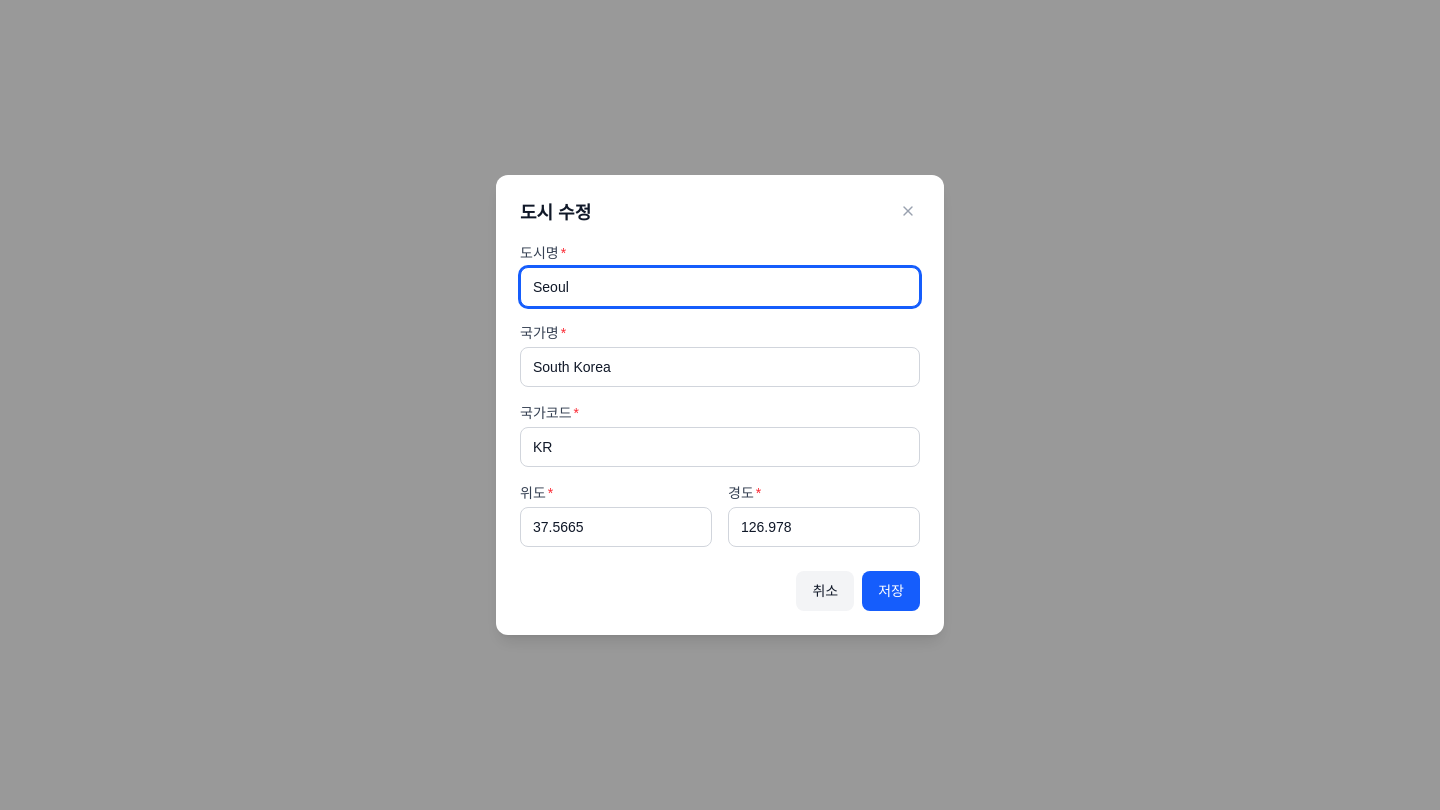
Scenario: CityFormModal - edit mode (F4) › 수정 결과가 다른 도시와 중복되면 폼 상단 배너로 거부 메시지를 표시한다 (F4 엣지케이스)
Replace the text in the field labelled "도시명*" with "Tokyo" at [720, 287], box [520,267,920,307]
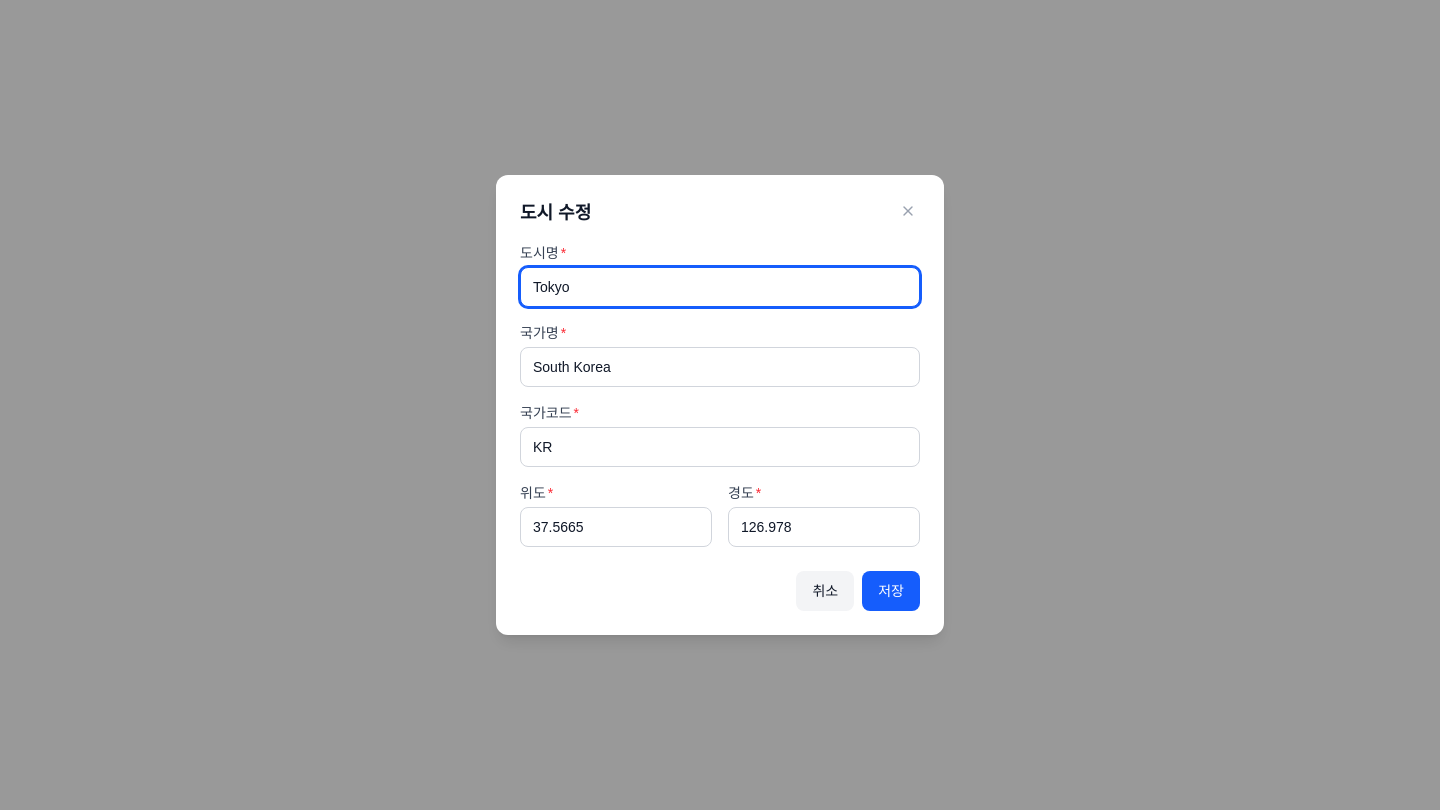
Replace the text in the field labelled "국가명*" with "Japan" at [720, 367], box [520,347,920,387]
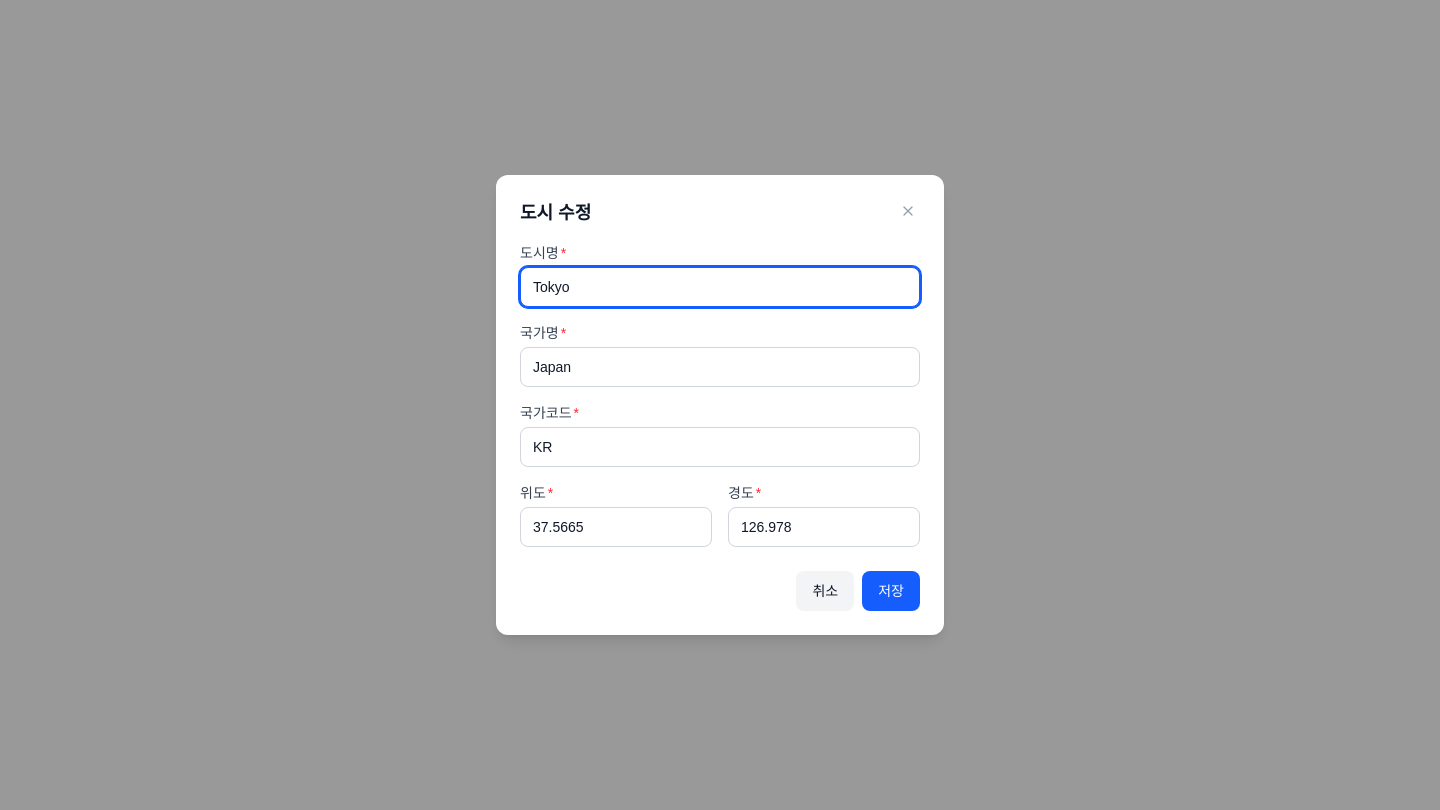
Replace the text in the field labelled "국가코드*" with "JP" at [720, 447], box [520,427,920,467]
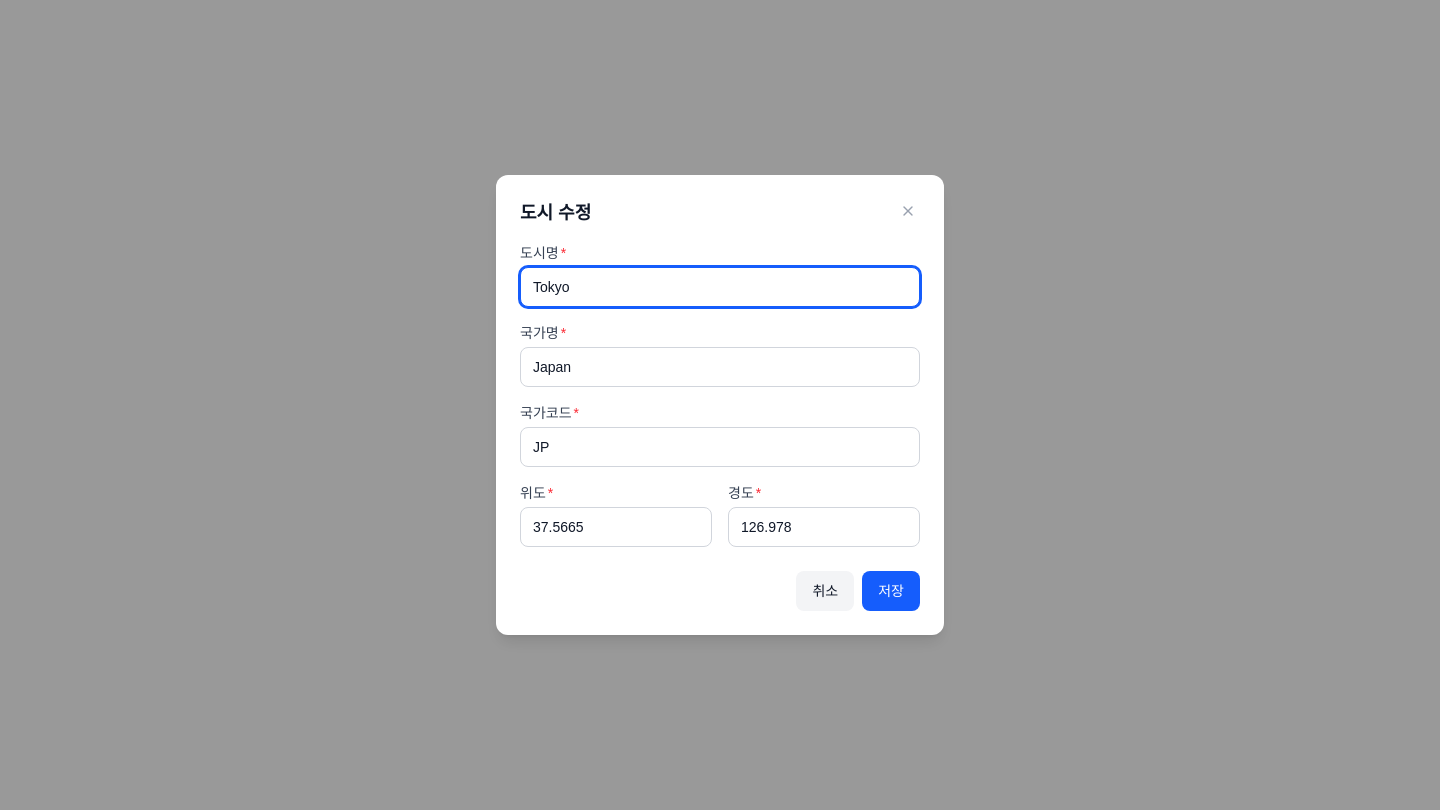
Click the button "저장" at [891, 591], box [862,571,920,611]
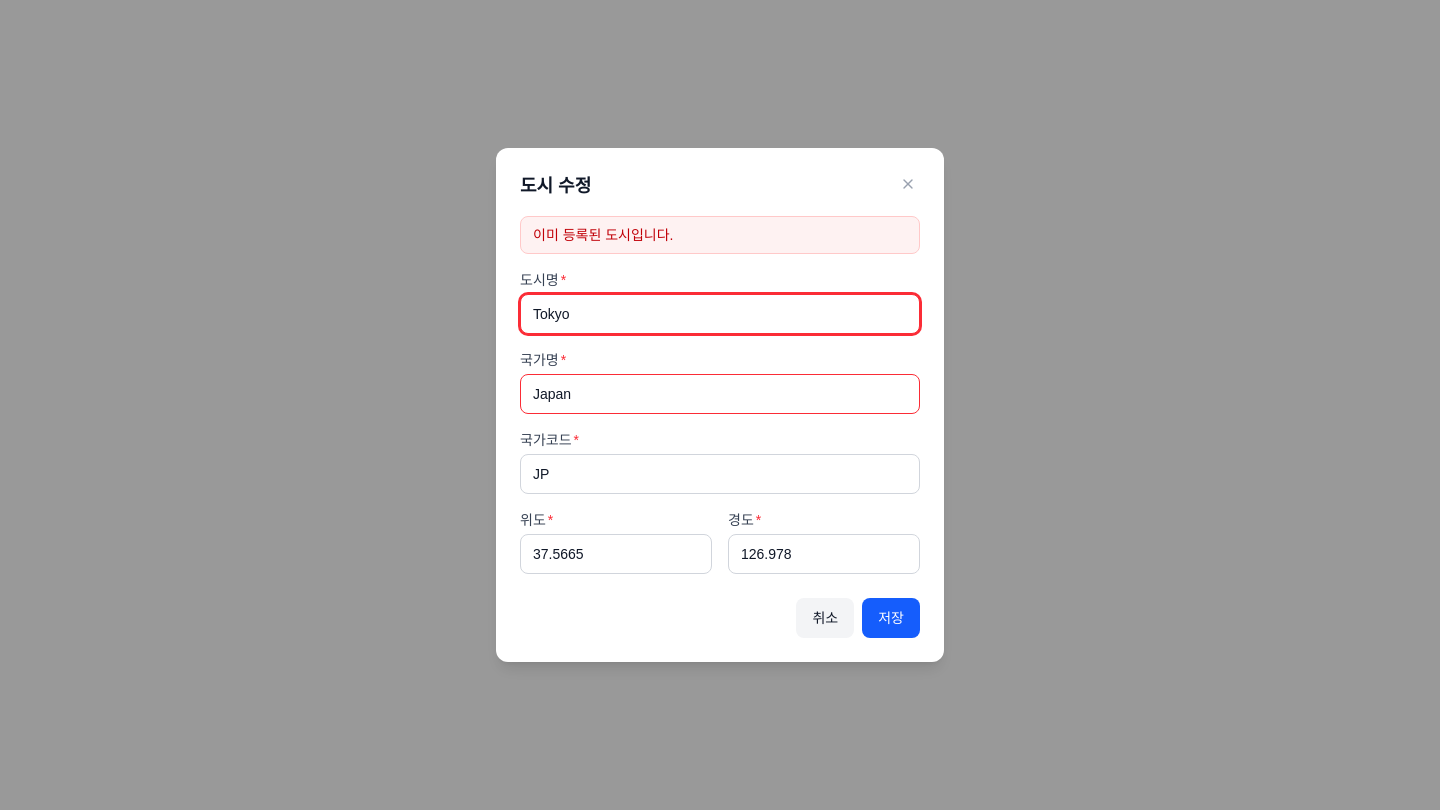
Check: the message reads "이미 등록된 도시입니다.", box [533,227,674,243]
